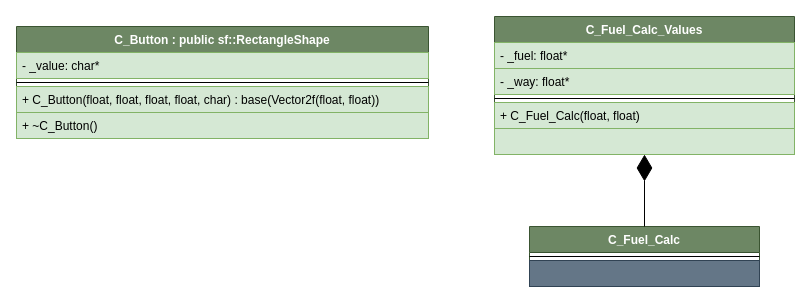
Image size: 811x303. Some labels were removed from this diagram. The shapes that lost their labels are listed below. From the top down, each one's centre as x and y in pixels, then its label:
At [644,141]: "+ ~C_Fuel_Calc()".
At [644,273]: "+ calculate(C_Fuel_Calc_Values&): float".
